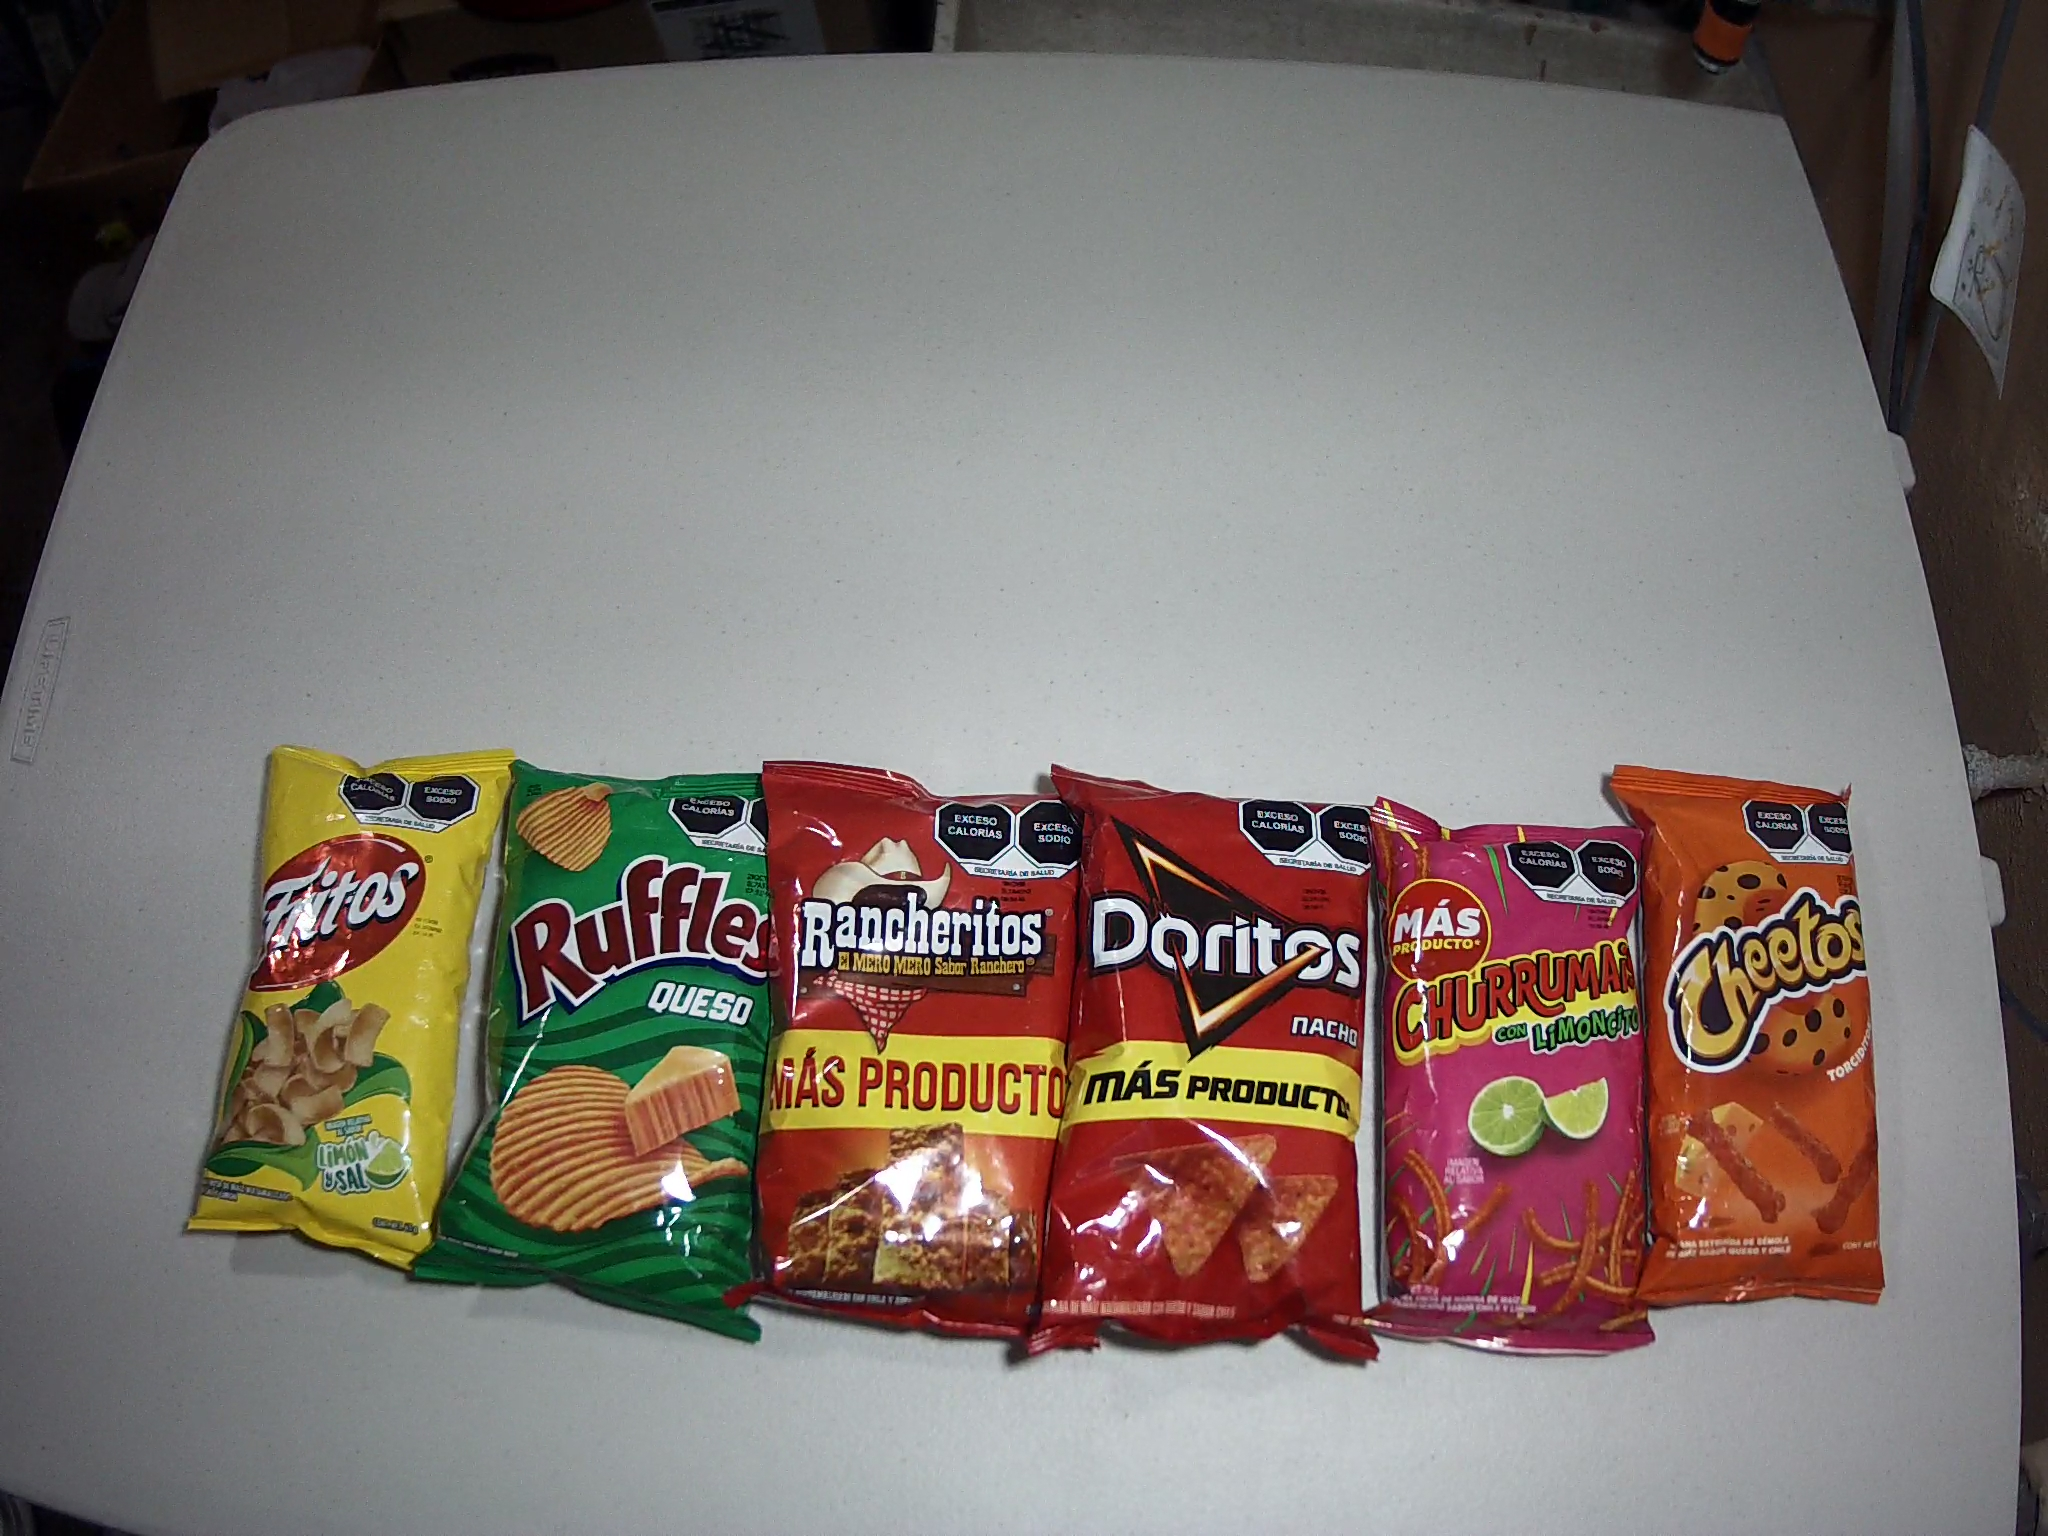CheetosTorciditos_55_F: (1613, 765, 1890, 1307)
Churrumais_70_F: (1371, 797, 1645, 1355)
DoritosN_61_F: (1051, 765, 1376, 1367)
FritosSalLimon_65_F: (190, 741, 506, 1273)
Rancheritos_58_F: (760, 760, 1072, 1342)
RufflesQ_48_F: (477, 758, 777, 1344)
